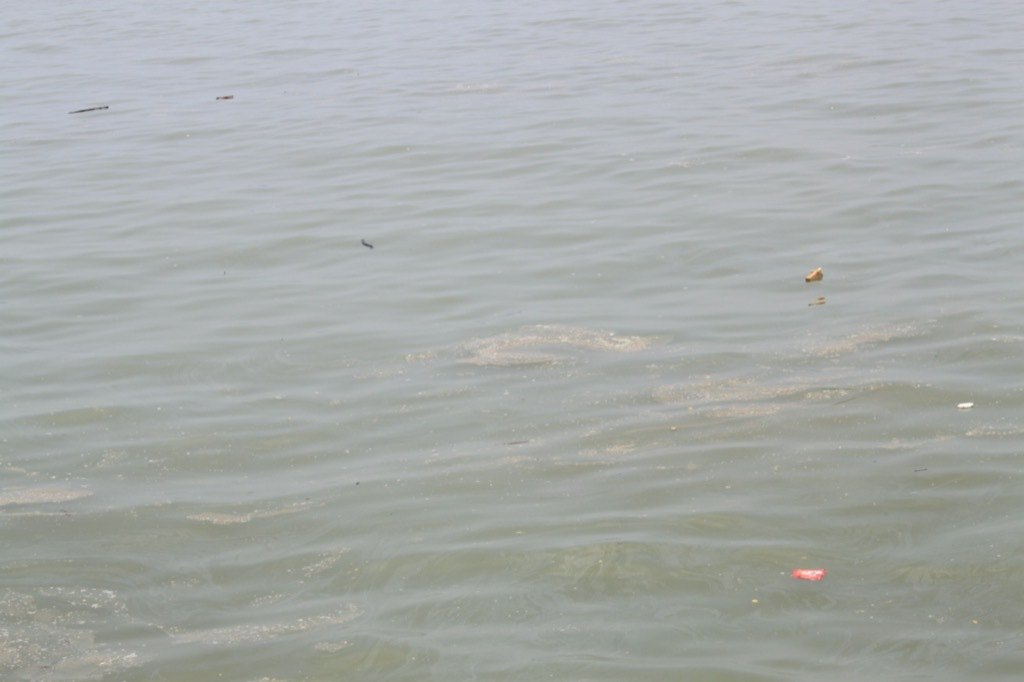organic: (53, 98, 127, 122), (208, 85, 244, 111), (351, 231, 385, 257), (291, 487, 326, 511), (348, 475, 373, 491)
plastic: (780, 556, 841, 590), (791, 249, 833, 295), (945, 387, 986, 423)
